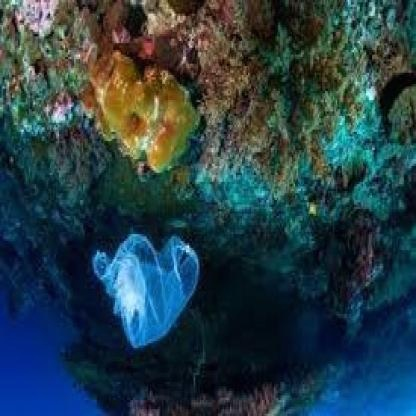pbag: (90, 234, 200, 350)
